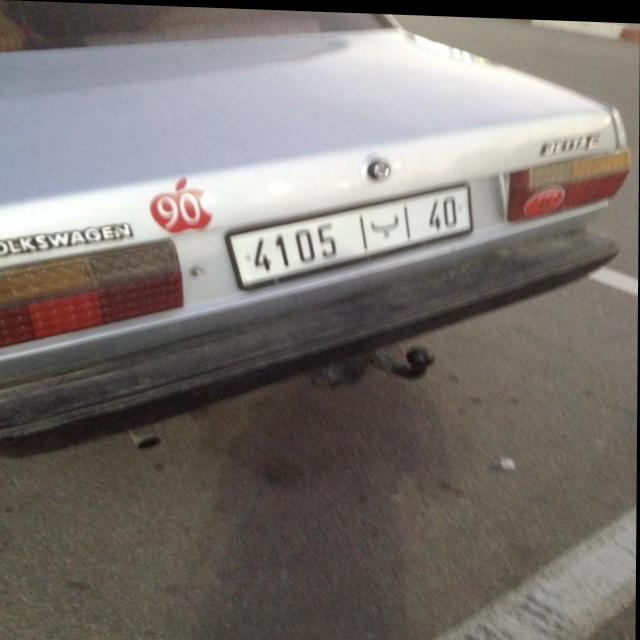License-Plate: (229, 182, 472, 286)
